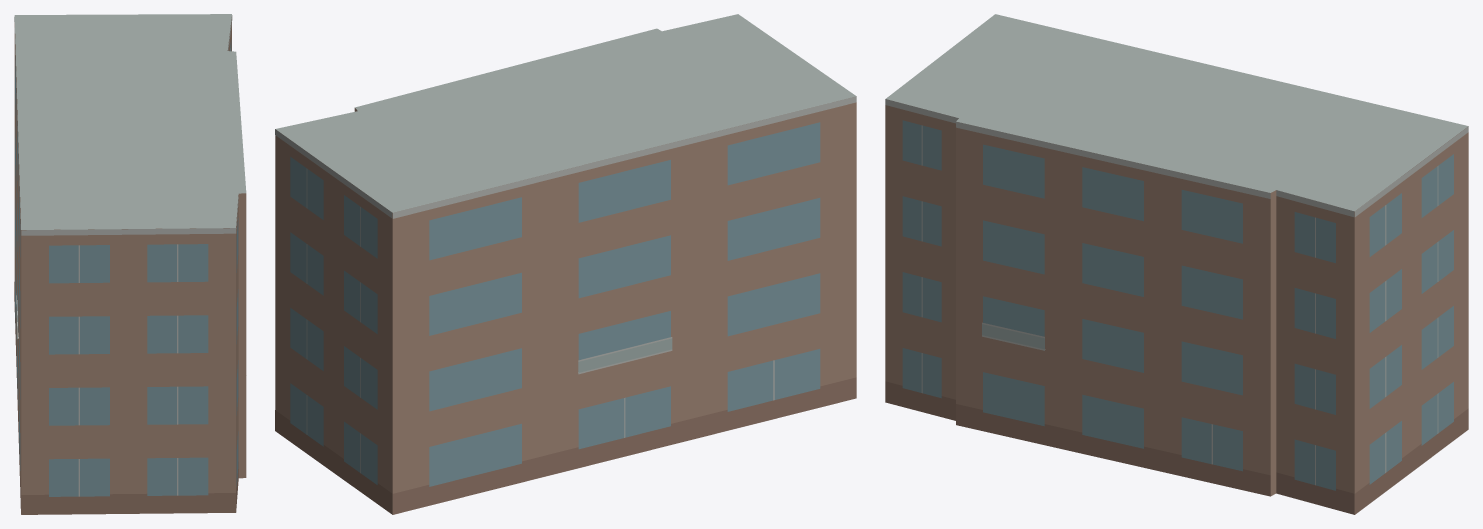
File: survey-upis-32596162.glb
3 renders of one model, left to right at view 1: azimuth 30°, elevation 25°; view 2: azimuth 150°, elevation 25°; view 3: azimuth 270°, elevation 25°, orthographic. The views are drawn at different scales.
Parts seen in each view (by area): view 1: survey-upis-32596162.tmp; view 2: survey-upis-32596162.tmp; view 3: survey-upis-32596162.tmp.
Boxes of the visible parts, x1=… form: survey-upis-32596162.tmp: x1=14, y1=14, x2=246, y2=514; survey-upis-32596162.tmp: x1=275, y1=14, x2=856, y2=514; survey-upis-32596162.tmp: x1=885, y1=14, x2=1468, y2=514.
Bounding box in the file's own units: 17.03 × 12.2 × 21.25.
